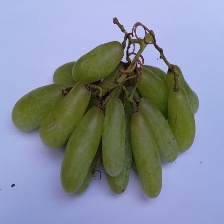grapes: (51, 31, 207, 210)
